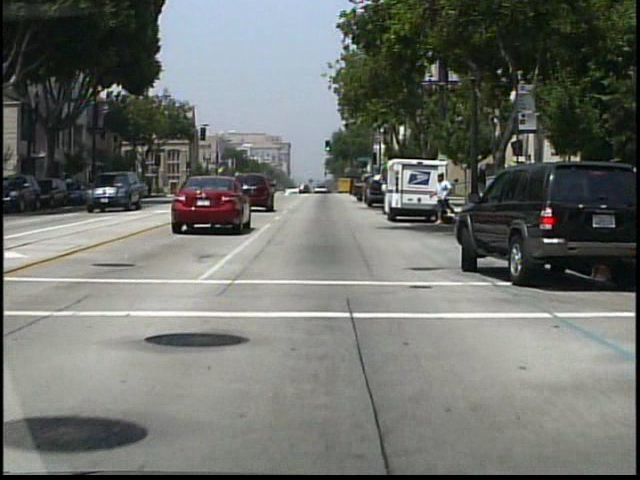person: (427, 171, 455, 224), (353, 174, 370, 205)
